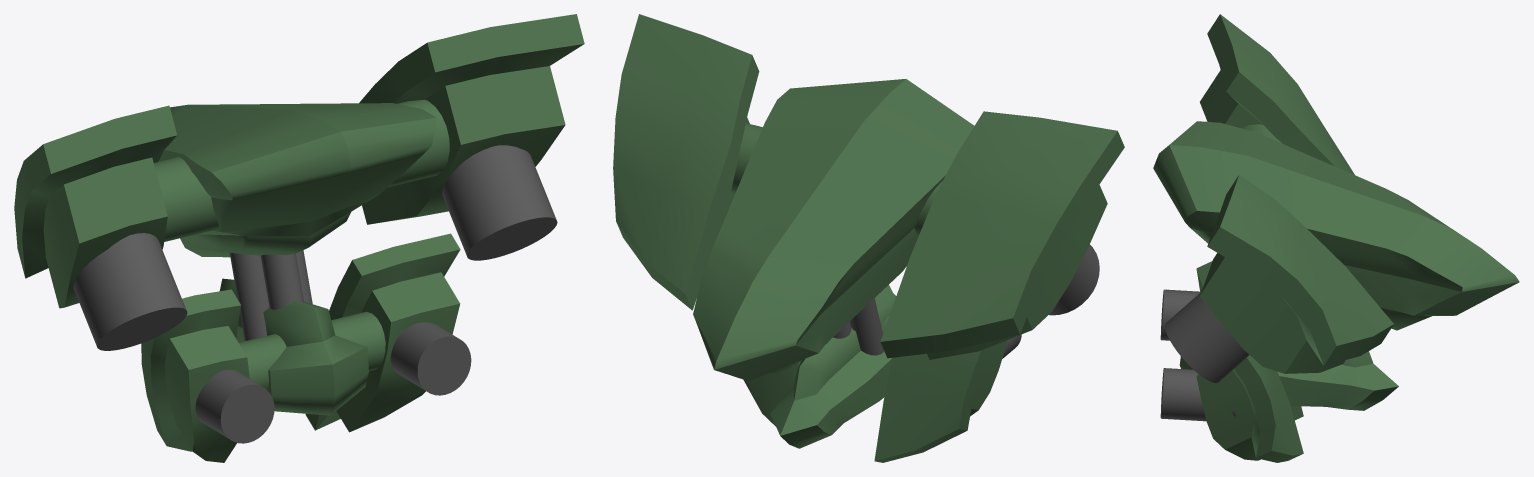
The model's file is mech.fbx.
3 renders of one model, left to right at view 1: azimuth 30°, elevation 25°; view 2: azimuth 150°, elevation 25°; view 3: azimuth 270°, elevation 25°, orthographic. The views are drawn at different scales.
Parts seen in each view (by area): view 1: upperChasis, rShoulder, lShoulder, rLeg, lLeg, pCylinder7, pCylinder6, lowerChasis, armsConnector, pCylinder9, pCylinder8, legsConnector (+2 smaller); view 2: upperChasis, lShoulder, rShoulder, lLeg, lowerChasis, pCylinder6, rLeg, pCylinder4, armsConnector; view 3: upperChasis, rShoulder, lShoulder, rLeg, lowerChasis, pCylinder7, pCylinder9, pCylinder8, lLeg.
Boxes of the visible parts, left/top/right/bottom form: upperChasis: left=158, top=103, right=436, bottom=257; rShoulder: left=359, top=14, right=584, bottom=224; lShoulder: left=14, top=105, right=177, bottom=308; rLeg: left=305, top=233, right=460, bottom=432; lLeg: left=141, top=289, right=249, bottom=462; pCylinder7: left=442, top=145, right=557, bottom=260; pCylinder6: left=73, top=233, right=187, bottom=350; lowerChasis: left=219, top=278, right=368, bottom=415; armsConnector: left=154, top=99, right=449, bottom=241; pCylinder9: left=390, top=322, right=471, bottom=395; pCylinder8: left=195, top=369, right=274, bottom=443; legsConnector: left=239, top=311, right=385, bottom=390; upperChasis: left=693, top=79, right=974, bottom=381; lShoulder: left=880, top=111, right=1124, bottom=359; rShoulder: left=613, top=14, right=759, bottom=310; lLeg: left=874, top=340, right=1007, bottom=462; lowerChasis: left=770, top=285, right=896, bottom=448; pCylinder6: left=1049, top=244, right=1099, bottom=315; rLeg: left=743, top=361, right=800, bottom=426; pCylinder4: left=850, top=298, right=883, bottom=355; armsConnector: left=731, top=123, right=942, bottom=235; upperChasis: left=1153, top=121, right=1519, bottom=330; rShoulder: left=1200, top=175, right=1393, bottom=373; lShoulder: left=1200, top=14, right=1354, bottom=174; rLeg: left=1196, top=355, right=1303, bottom=462; lowerChasis: left=1179, top=351, right=1398, bottom=410; pCylinder7: left=1165, top=292, right=1249, bottom=382; pCylinder9: left=1160, top=368, right=1235, bottom=421; pCylinder8: left=1160, top=289, right=1200, bottom=340; lLeg: left=1196, top=261, right=1303, bottom=420.
Size of the model in its own units: 2.78 by 1.96 by 2.02.
